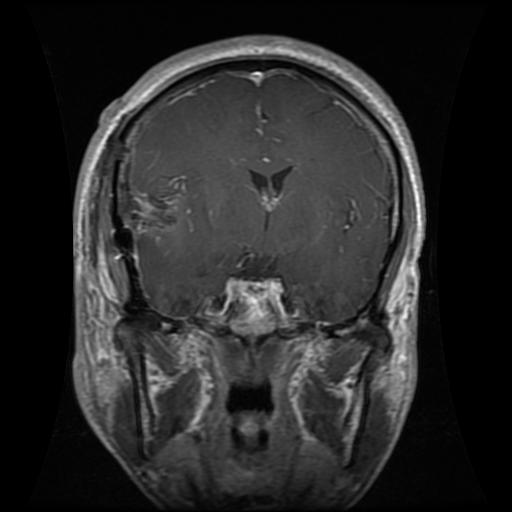Gliomia_tumour: (121, 170, 192, 247)
